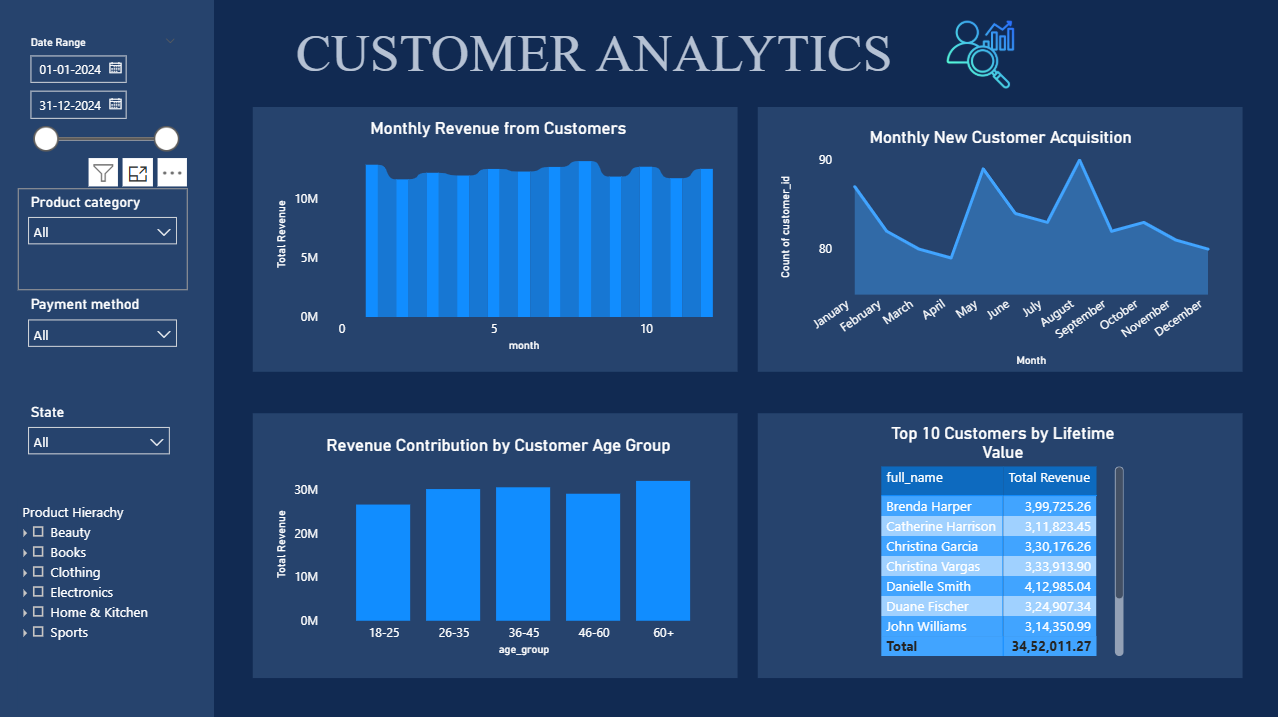

What the dashboard file says about the page in this screenshot:
{"tool":"powerbi","page":{"name":"Page 3","canvas":[1280,720],"ordinal":2},"visuals":[{"type":"shape","box":[758.8,110,485,265],"z":0},{"type":"shape","box":[253.8,416.2,485,265],"z":1000},{"type":"shape","box":[253.8,110,485,265],"z":2000},{"type":"shape","box":[0,0,215,720],"z":3000},{"type":"clusteredColumnChart","title":"Revenue Contribution by Customer Age Group","fields":{"Y":["warehouse fact_sales.Total Revenue"],"Category":["warehouse dim_customers.age_group"]},"box":[272.5,437.5,453.8,226.2],"z":4000},{"type":"ribbonChart","title":"Monthly Revenue from Customers","fields":{"Category":["warehouse dim_date.month"],"Series":["warehouse dim_customers.customer_segment"],"Y":["warehouse fact_sales.Total Revenue"]},"box":[272.5,121.2,453.8,238.8],"z":5000},{"type":"slicer","title":"Payment Method","fields":{"Values":["warehouse dim_payment_method.payment_method_name"]},"box":[19.3,293.2,168.9,88.1],"z":6000},{"type":"slicer","title":"State","fields":{"Values":["warehouse dim_customers.state"]},"box":[19.3,401.7,161.7,88.1],"z":7000},{"type":"slicer","title":"Product Category","fields":{"Values":["warehouse dim_products.category"]},"box":[19.3,191.8,168.9,101.3],"z":8000},{"type":"slicer","title":"Date Range","fields":{"Values":["warehouse dim_date.full_date"]},"box":[19.3,33.8,170.1,124.3],"z":9000},{"type":"textbox","title":"CUSTOMER ANALYTICS","box":[227.5,26.2,735,61.2],"z":10000},{"type":"image","box":[893.8,18.8,175,77.5],"z":11000},{"type":"areaChart","title":"Monthly New Customer Acquisition","fields":{"Y":["warehouse dim_customers.customer_id"],"Category":["warehouse dim_customers.registration_date.Variation.Date Hierarchy.Month"]},"box":[776.5,129.4,450.8,244.6],"z":12000},{"type":"shape","box":[758.8,416.2,485,265],"z":13000},{"type":"pivotTable","title":"Top 10 Customers by Lifetime Value","fields":{"Rows":["warehouse dim_customers.full_name"],"Values":["warehouse fact_sales.Total Revenue"]},"box":[877.5,426.2,252.5,237.5],"z":14000},{"type":"HierarchySlicer1458836712039","fields":{"Fields":["warehouse dim_products.category","warehouse dim_products.sub_category","warehouse dim_products.product_name"]},"box":[19.3,500.7,170.1,211.1],"z":14001}]}

Visuals, with their boxes on the page's 1280x720 design canvas (x1, y1, x2, y2). These are canvas units, not pixel positions in the 1278x717 screenshot, which may show the page scaled, cropped or inside an application window:
shape: crop(759, 110, 1244, 375)
shape: crop(254, 416, 739, 681)
shape: crop(254, 110, 739, 375)
shape: crop(0, 0, 215, 720)
"Revenue Contribution by Customer Age Group" clusteredColumnChart: crop(272, 438, 726, 664)
"Monthly Revenue from Customers" ribbonChart: crop(272, 121, 726, 360)
"Payment Method" slicer: crop(19, 293, 188, 381)
"State" slicer: crop(19, 402, 181, 490)
"Product Category" slicer: crop(19, 192, 188, 293)
"Date Range" slicer: crop(19, 34, 189, 158)
"CUSTOMER ANALYTICS" textbox: crop(228, 26, 962, 87)
image: crop(894, 19, 1069, 96)
"Monthly New Customer Acquisition" areaChart: crop(776, 129, 1227, 374)
shape: crop(759, 416, 1244, 681)
"Top 10 Customers by Lifetime Value" pivotTable: crop(878, 426, 1130, 664)
HierarchySlicer1458836712039 - warehouse dim_products.category x warehouse dim_products.sub_category: crop(19, 501, 189, 712)
